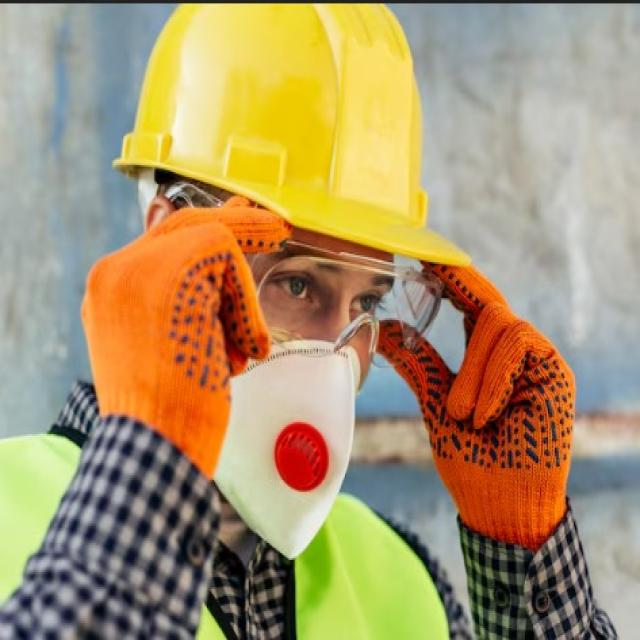gloved: (371, 258, 575, 552), (80, 195, 278, 467)
